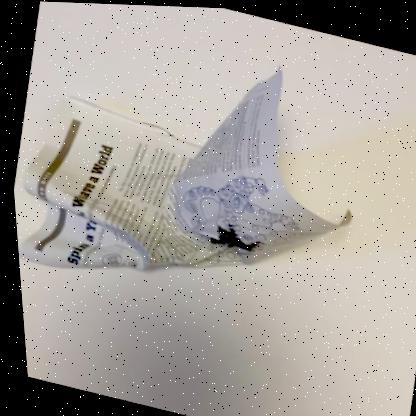Paper: (15, 65, 347, 269)
